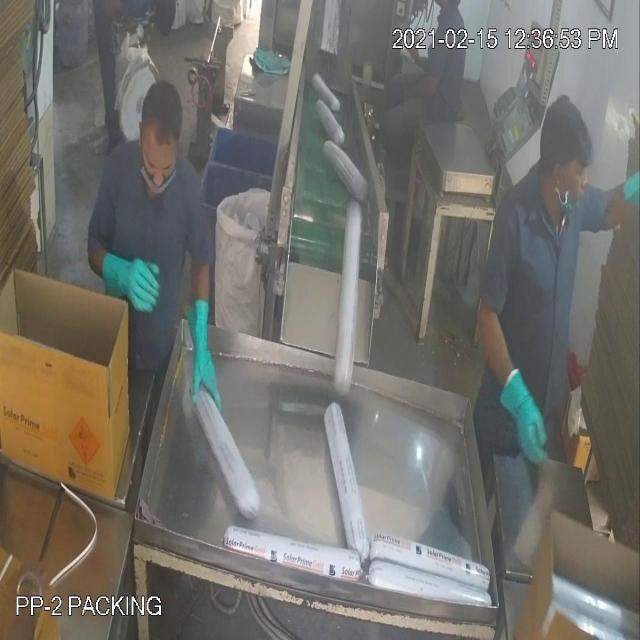Gloves: (50, 88, 527, 417)
